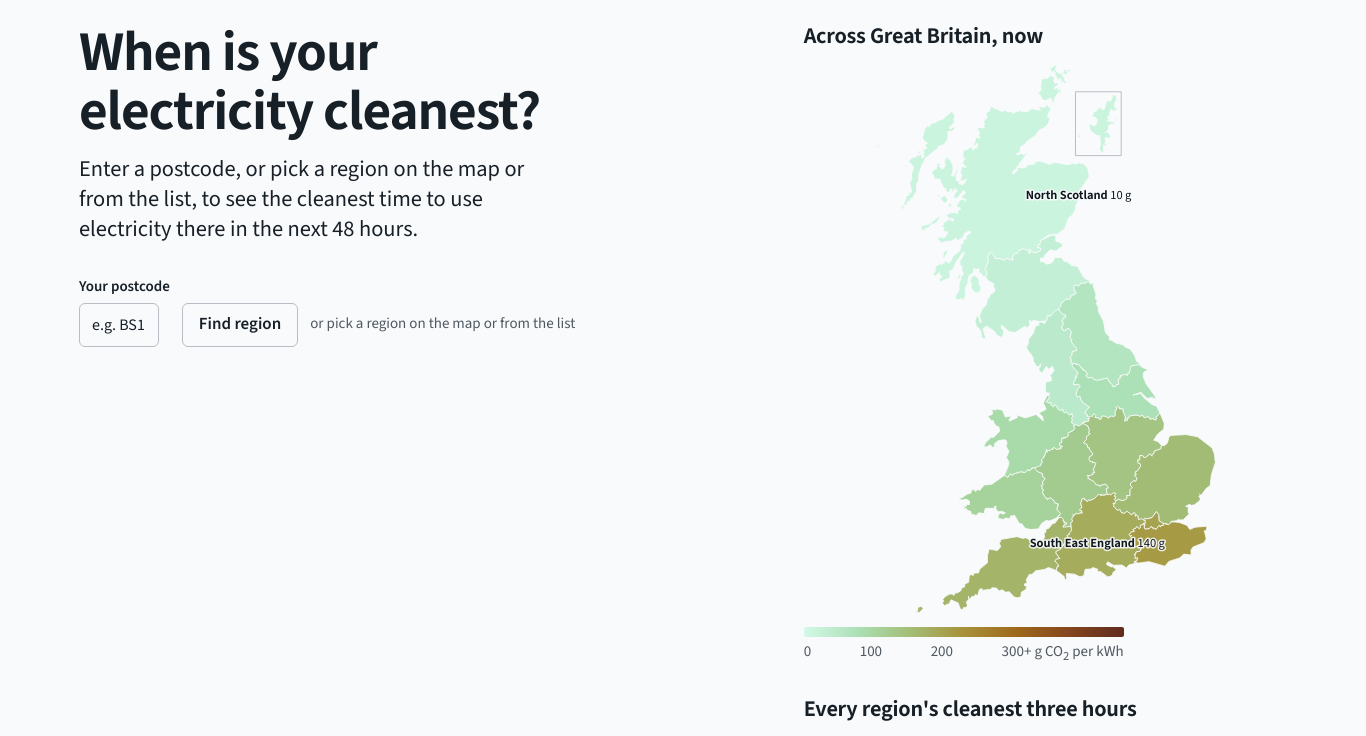
Scenario: tells the visitor what is wrong with a postcode, without calling NESO
This screenshot has width=1366, height=736.
Expected: the heading "When is your electricity cleanest?" is shown, left=79, top=13, right=540, bottom=151
Type "BT1 1AA" into the field labelled "Your postcode". click: (119, 325)
box: left=79, top=303, right=158, bottom=347
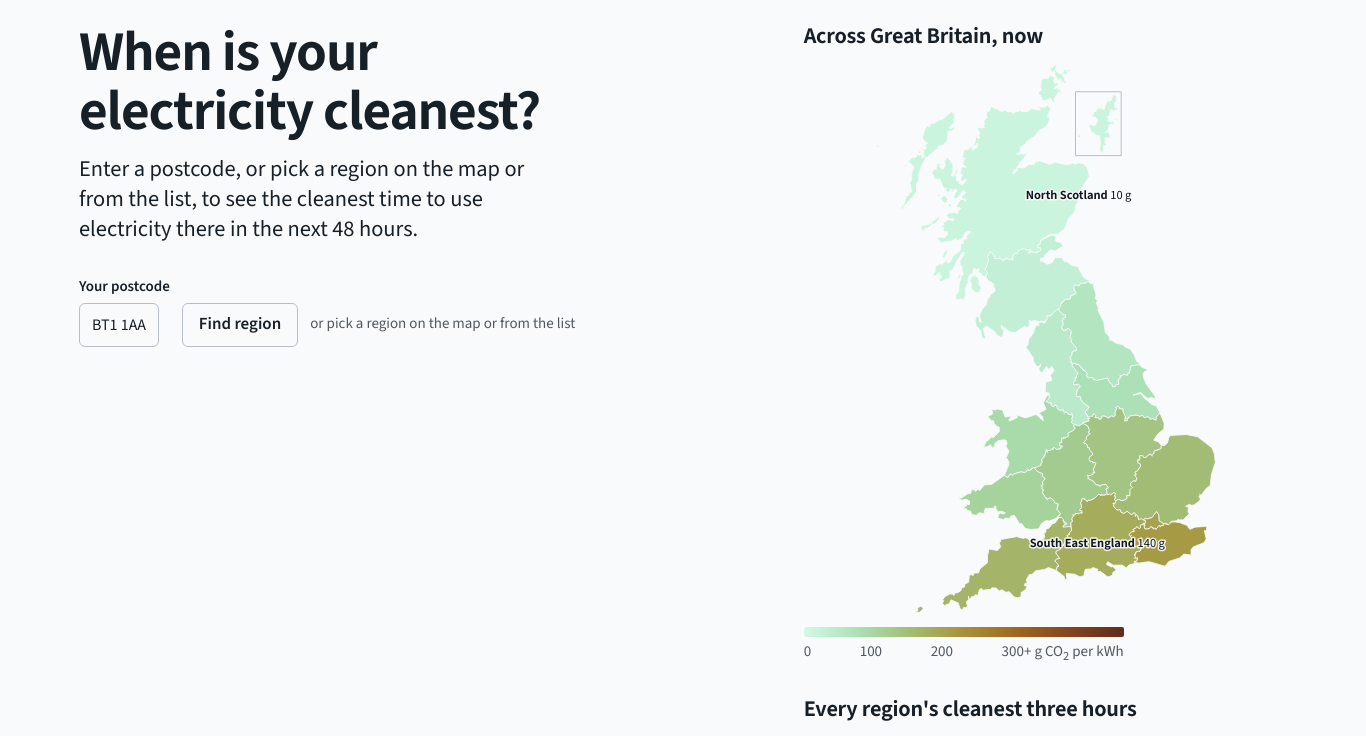
Click the button "Find region". click: click(240, 325)
box: left=182, top=303, right=298, bottom=347
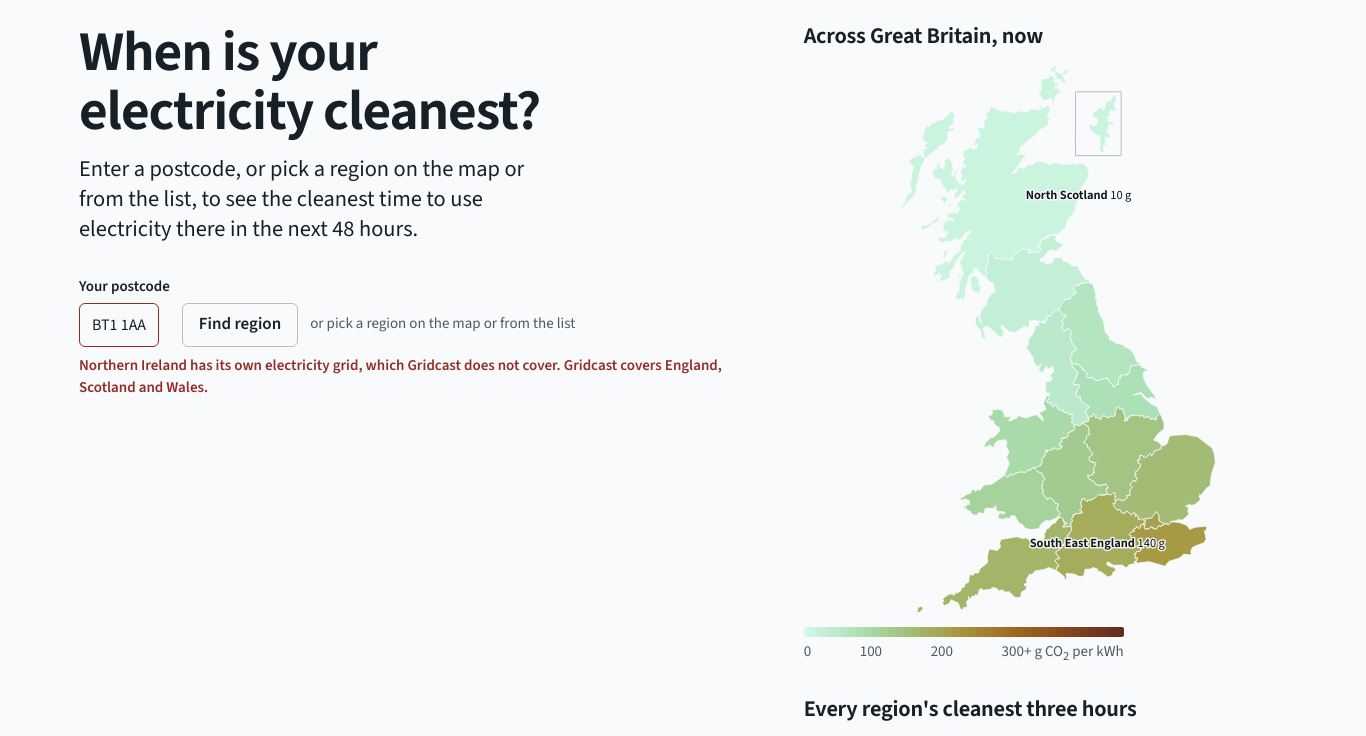
Expected: the message shows "Northern Ireland", left=79, top=355, right=722, bottom=398
